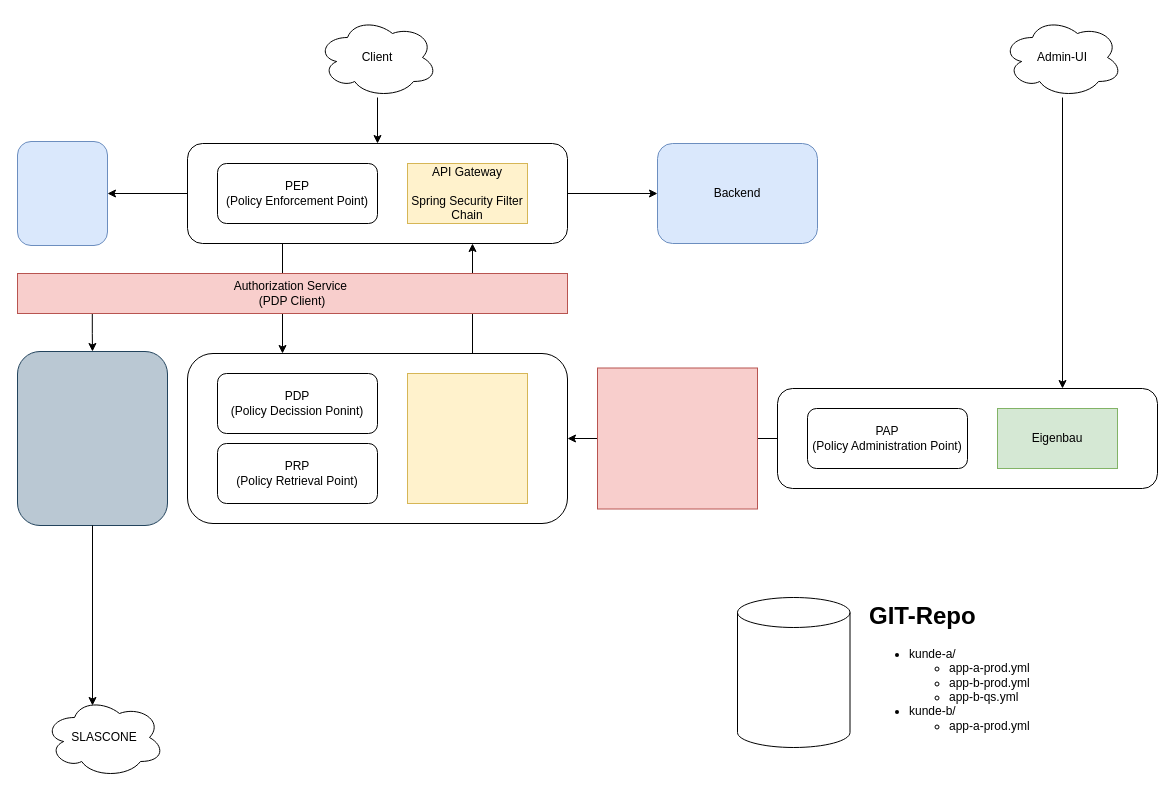
Some shapes in this 1175 by 795 pixel diagram are drawn without their labels. The shapes that lost their labels are listed below. From the top down, each one's centre as x and y in pixels, then its label:
At [62,193]: "IAM".
At [92,438]: "Subscription / License Service Maps License Information".
At [467,438]: "ReBac Engine (SpiceDB)".
At [677,438]: "Administration Service (PAP Mapper) Map UI-Entities into ReBac engine rules".
At [793,672]: "Config Server".
